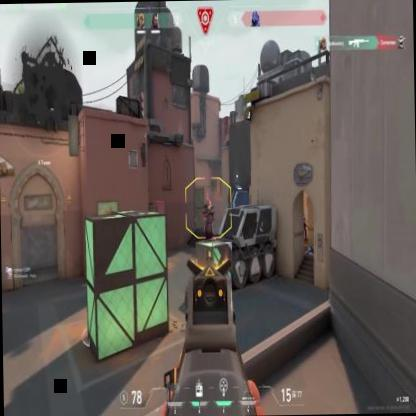enemy: (201, 196, 214, 236), (300, 211, 308, 242)
enemy_head: (206, 198, 209, 206), (301, 213, 304, 219)
